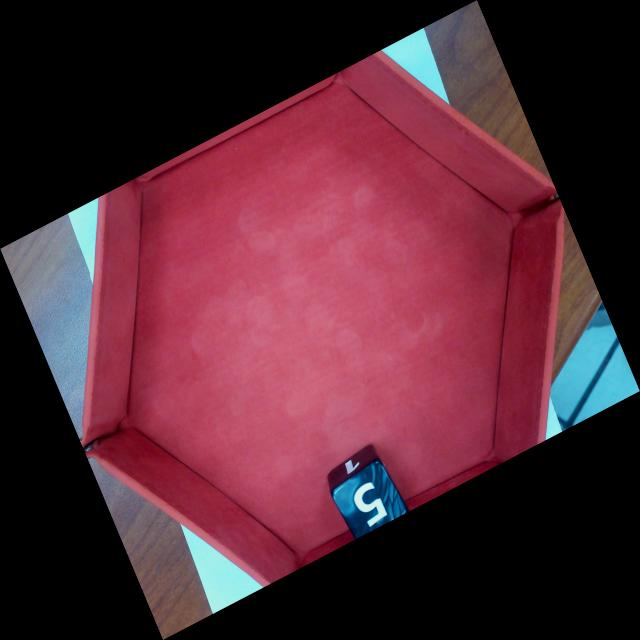dice: (329, 456, 410, 540)
